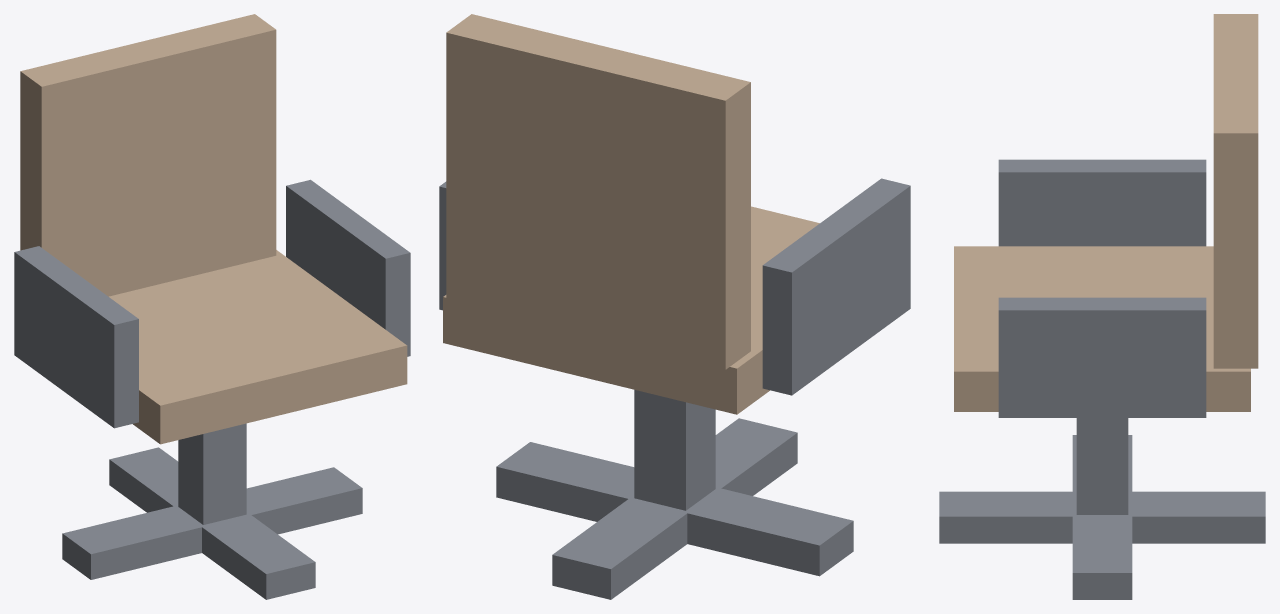
The model's file is chairDesk.glb.
3 views of the same model, side by side, from view 1: azimuth 30°, elevation 25°; view 2: azimuth 150°, elevation 25°; view 3: azimuth 270°, elevation 25° (orthographic). The views are drawn at different scales.
Parts seen in each view (by area): view 1: chairDesk; view 2: chairDesk; view 3: chairDesk.
Boxes of the visible parts, left/top/right/bottom form: chairDesk: left=14, top=14, right=410, bottom=599; chairDesk: left=439, top=14, right=910, bottom=599; chairDesk: left=939, top=14, right=1265, bottom=599.
Size of the model in its own units: 0.48 by 0.68 by 0.44.
